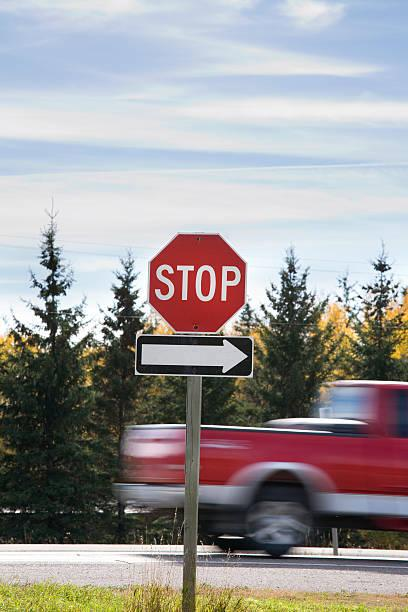Pole: (180, 376, 201, 611)
Sign: (148, 233, 248, 333)
